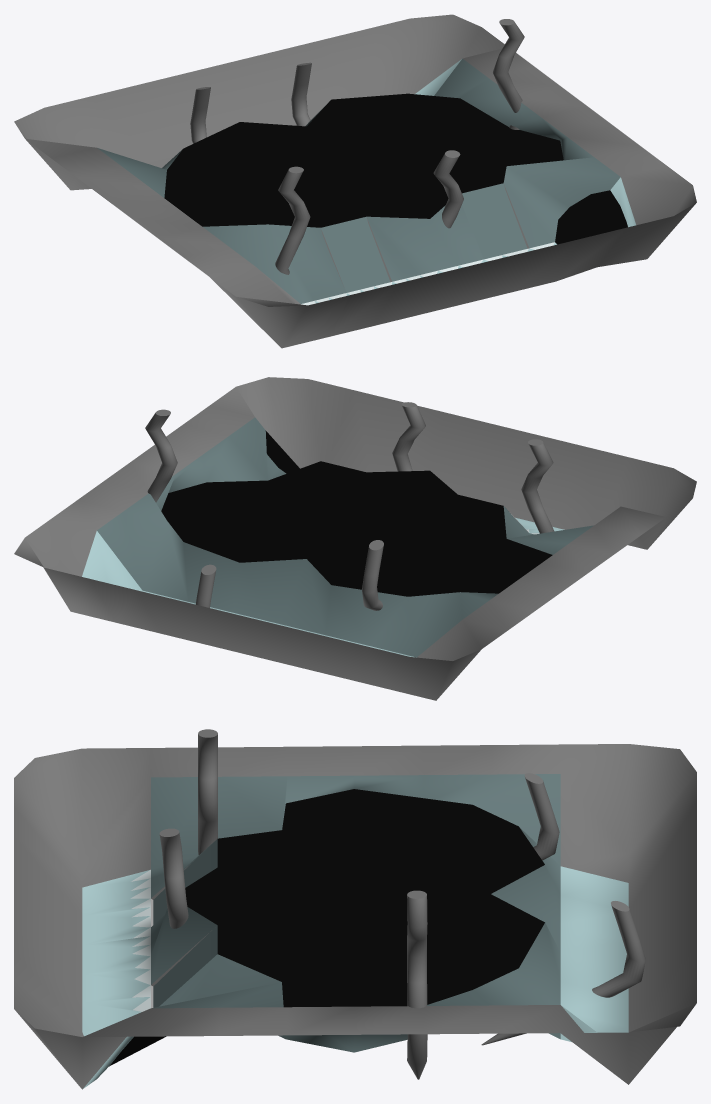
Rendered from Fallen Hole.fbx.
The picture shows the model from 3 angles, top to bottom: view 1: azimuth 30°, elevation 25°; view 2: azimuth 150°, elevation 25°; view 3: azimuth 270°, elevation 25°; orthographic projection. The views are drawn at different scales.
Parts seen in each view (by area): view 1: polySurface6; view 2: polySurface6; view 3: polySurface6.
Boxes of the visible parts, <box> form: polySurface6: <box>14,14,696,348</box>; polySurface6: <box>14,377,696,700</box>; polySurface6: <box>14,729,696,1089</box>.
Bounding box in the file's own units: 44.8 × 16.87 × 44.8.
